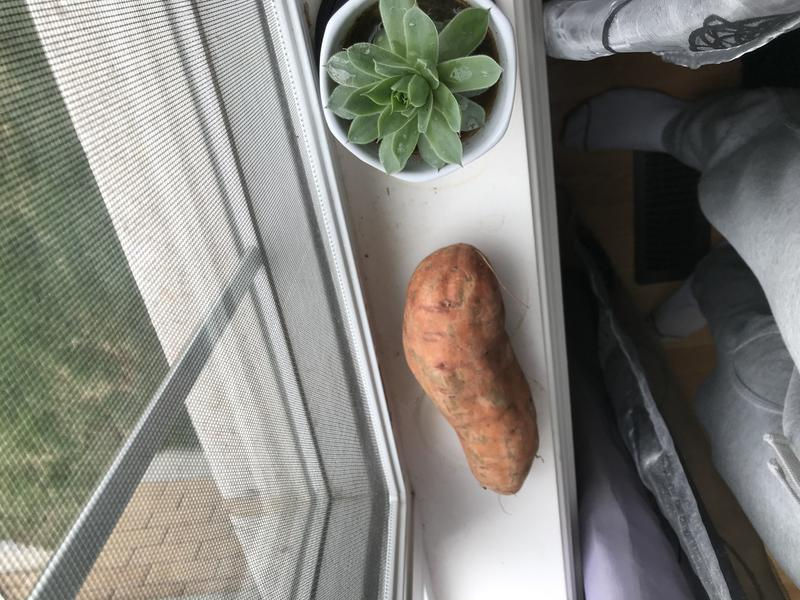sweet_potato: (393, 233, 545, 506)
